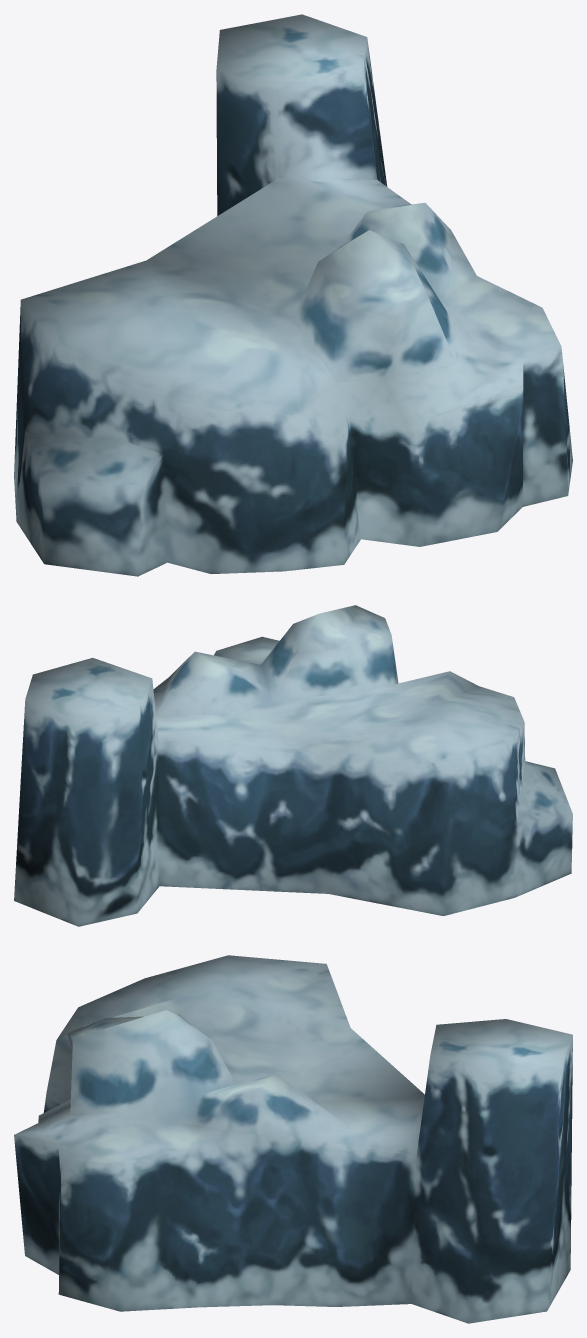
File: Stage_BingYuan_ShanShi01.FBX
3 views of the same model, one above another, from view 1: azimuth 30°, elevation 25°; view 2: azimuth 150°, elevation 25°; view 3: azimuth 270°, elevation 25° (orthographic). The views are drawn at different scales.
Visible parts, largest first — view 1: Stage_BingYuan_ShanShi01; view 2: Stage_BingYuan_ShanShi01; view 3: Stage_BingYuan_ShanShi01.
Part boxes in pixels (bbox=[...]): Stage_BingYuan_ShanShi01: bbox=[14, 14, 572, 576]; Stage_BingYuan_ShanShi01: bbox=[14, 605, 572, 926]; Stage_BingYuan_ShanShi01: bbox=[14, 955, 572, 1323].
Size of the model in its own units: 1183 by 581 by 1220.
